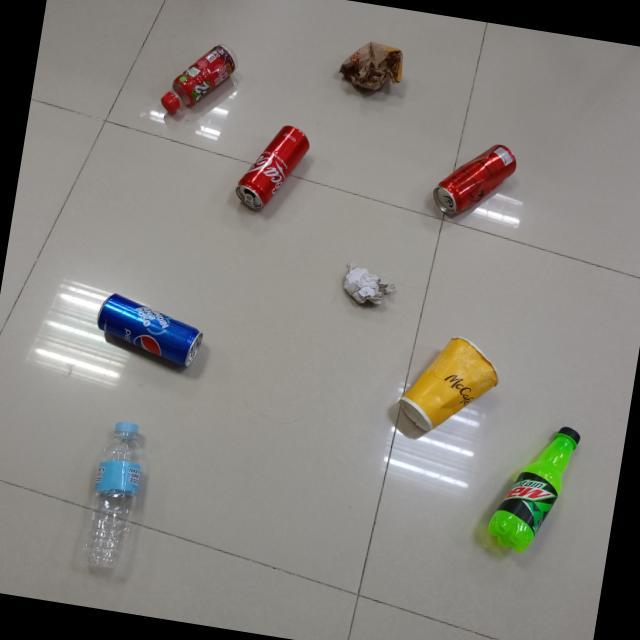recyclable waste: (478, 412, 588, 566), (391, 322, 510, 448), (78, 412, 158, 580), (84, 284, 212, 376), (227, 112, 320, 228), (427, 129, 528, 231), (154, 32, 246, 127), (330, 32, 412, 105), (332, 257, 402, 315)
